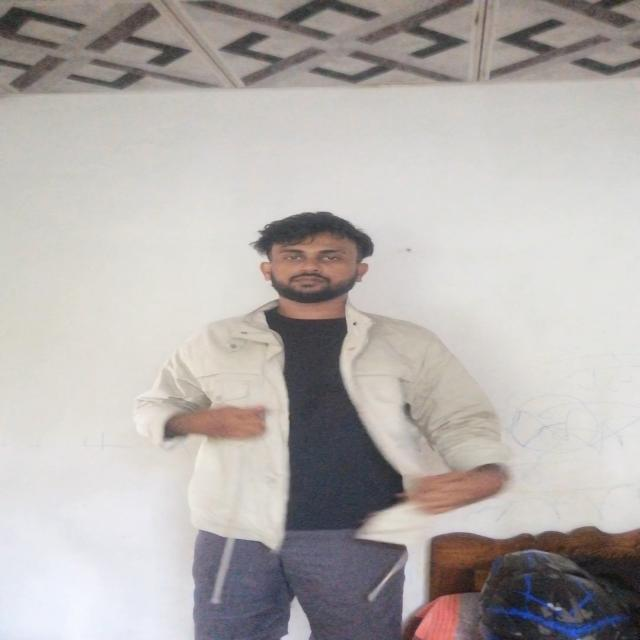Jacket_Wearer: (125, 291, 514, 547)
Person: (117, 217, 517, 625)
